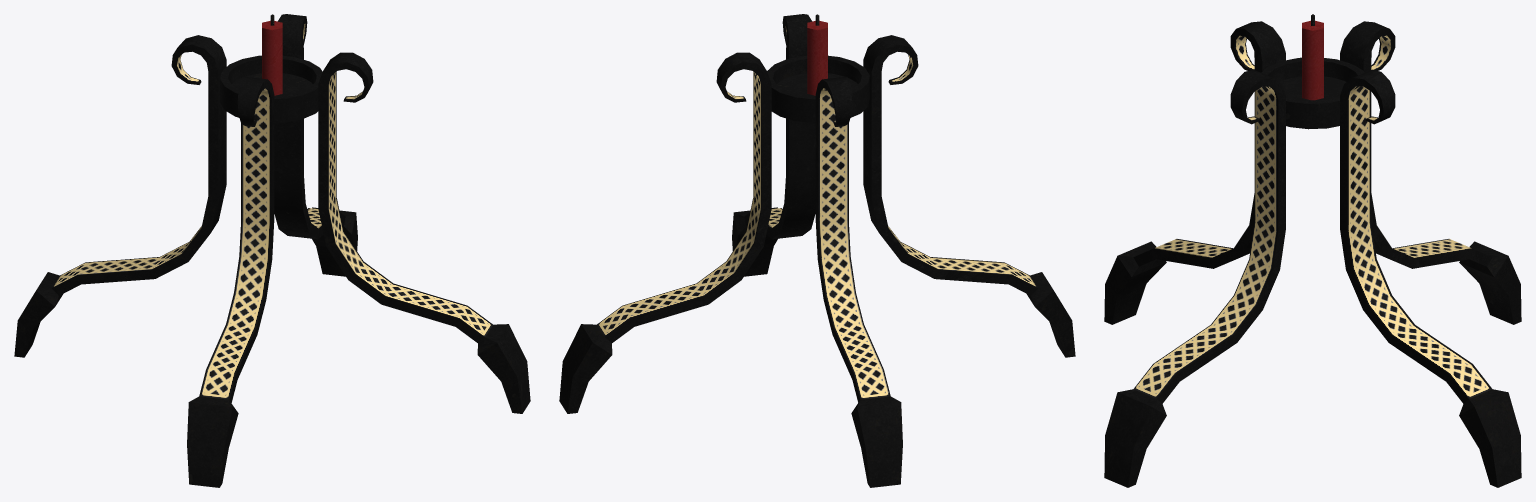
File: TableCandle_02.FBX
The picture shows the model from 3 angles, left to right: view 1: azimuth 30°, elevation 25°; view 2: azimuth 150°, elevation 25°; view 3: azimuth 270°, elevation 25°; orthographic projection. The views are drawn at different scales.
Visible parts, largest first — view 1: TableCandle_02; view 2: TableCandle_02; view 3: TableCandle_02.
Boxes of the visible parts, x1,y1,x2,y2 form: TableCandle_02: (14, 14, 530, 487); TableCandle_02: (559, 14, 1075, 487); TableCandle_02: (1104, 14, 1521, 487).
Size of what is drawn, in the model's own units: 37.51 by 37.51 by 38.19.
Materials: 1 (1 with a texture image).
